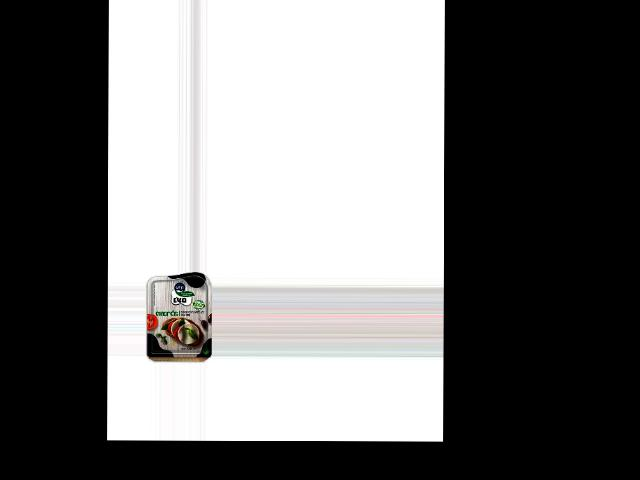cheese: (145, 273, 211, 358)
